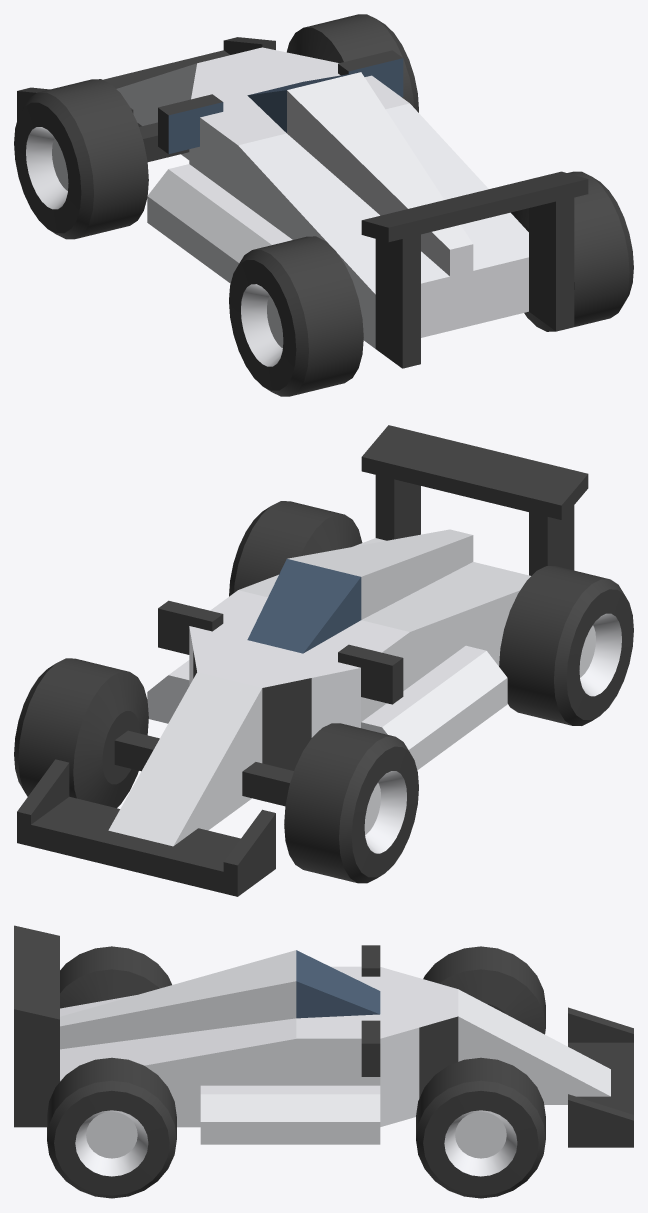
Rendered from raceCarWhite.obj.
The picture shows the model from 3 angles, top to bottom: view 1: azimuth 30°, elevation 25°; view 2: azimuth 150°, elevation 25°; view 3: azimuth 270°, elevation 25°; orthographic projection. The views are drawn at different scales.
Visible parts, largest first — view 1: body, wheelBackLeft, wheelFrontLeft, wheelBackRight, wheelFrontRight; view 2: body, wheelFrontLeft, wheelBackLeft, wheelFrontRight, wheelBackRight; view 3: body, wheelBackRight, wheelFrontRight, wheelFrontLeft, wheelBackLeft.
Part boxes in pixels (x1,y1,x2,y2): body: [17, 37, 588, 368]; wheelBackLeft: [229, 236, 363, 396]; wheelFrontLeft: [14, 79, 148, 239]; wheelBackRight: [511, 171, 633, 331]; wheelFrontRight: [287, 14, 418, 112]; body: [17, 425, 588, 896]; wheelFrontLeft: [284, 723, 418, 883]; wheelBackLeft: [499, 566, 633, 725]; wheelFrontRight: [14, 658, 148, 808]; wheelBackRight: [229, 501, 362, 596]; body: [14, 925, 633, 1147]; wheelBackRight: [47, 1057, 176, 1198]; wheelFrontRight: [416, 1057, 545, 1198]; wheelFrontLeft: [423, 946, 545, 1034]; wheelBackLeft: [60, 946, 171, 1008].
Bounding box in the file's own units: 0.7288 × 0.397 × 1.35.
